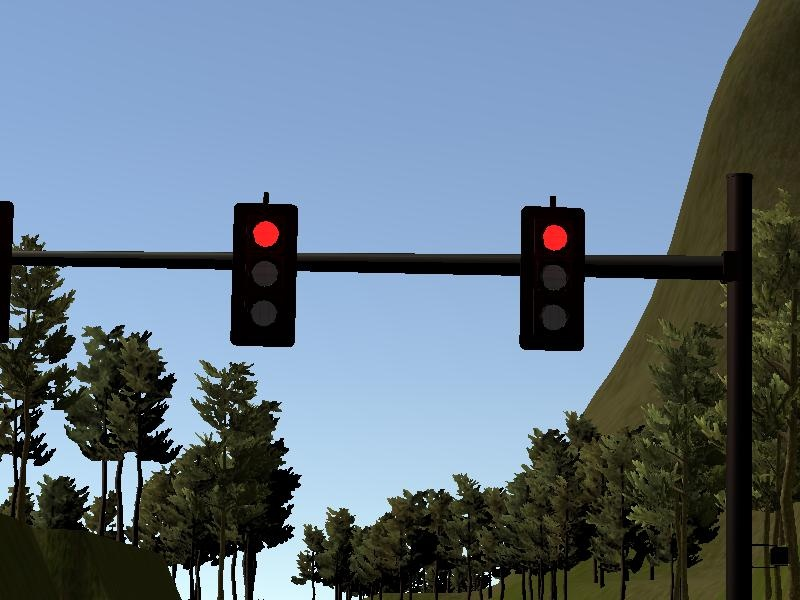RED: (227, 202, 297, 344), (517, 207, 587, 349)
